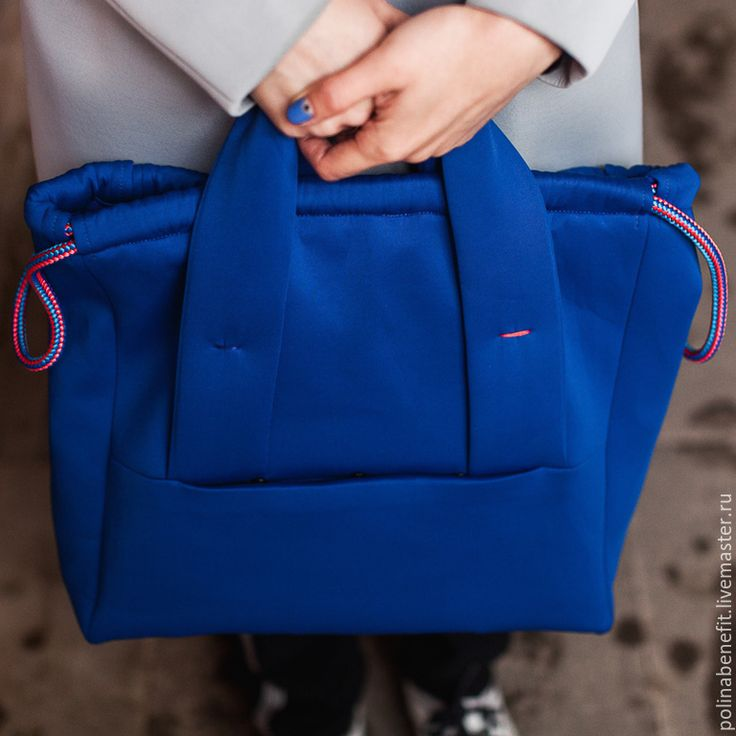nylon: (24, 103, 701, 644)
